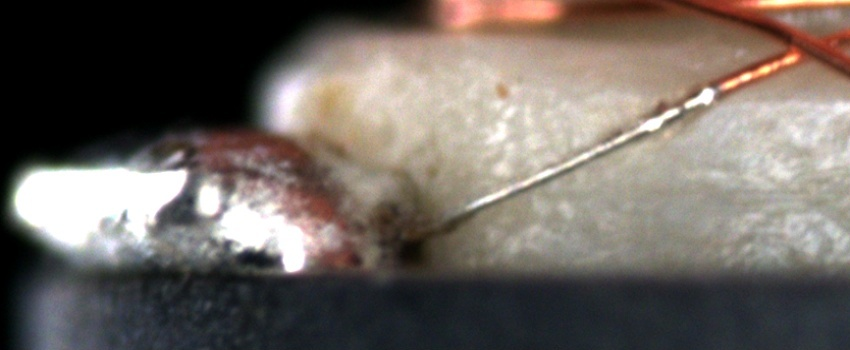CL: (761, 21, 838, 72)
DL: (655, 165, 850, 219), (688, 89, 850, 129)
TS: (396, 83, 718, 244)
TTCW: (421, 53, 792, 232)
